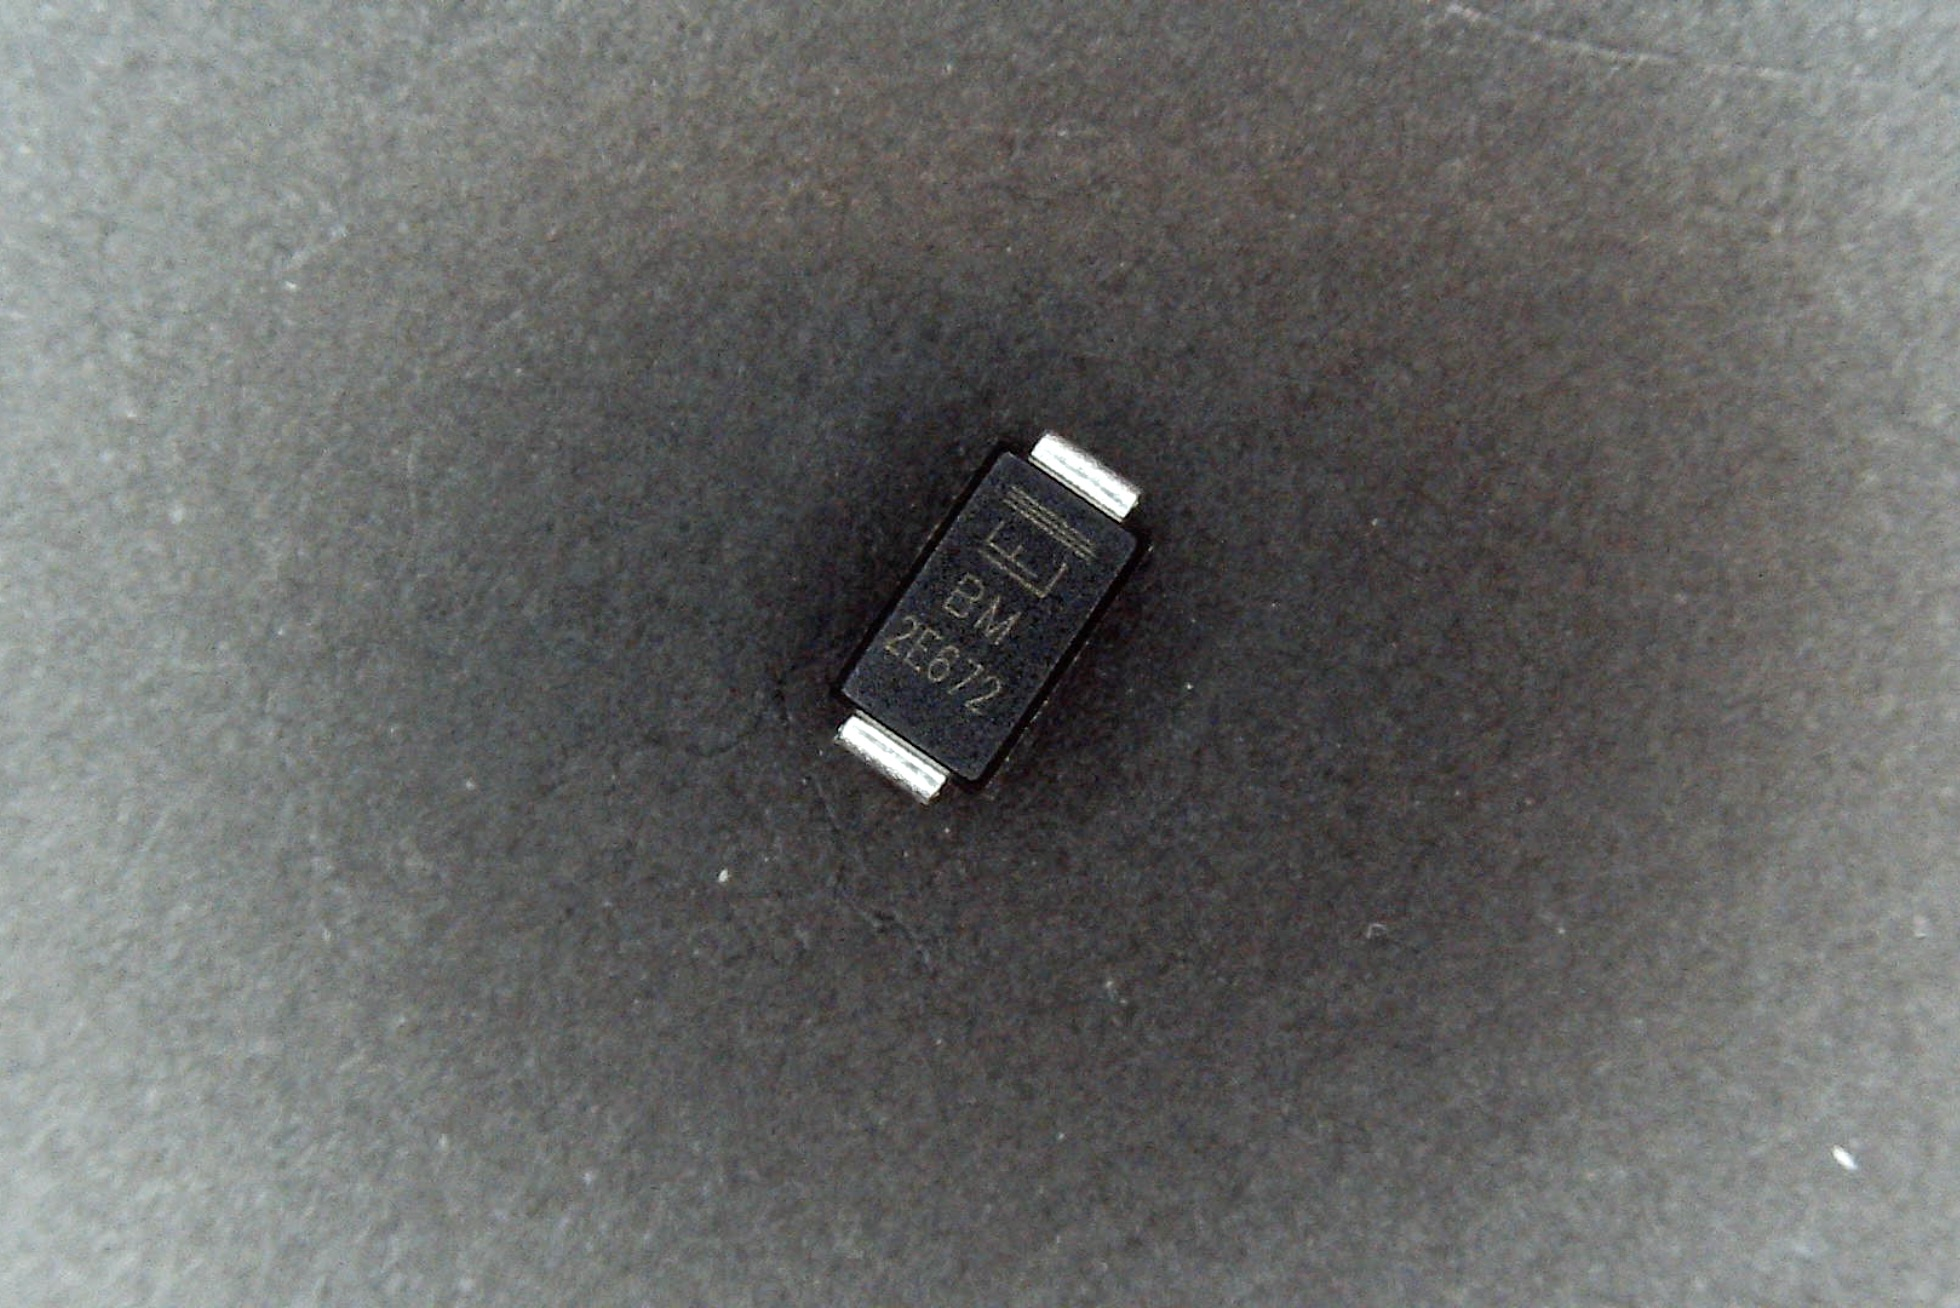bbox: (826, 428, 1146, 812)
